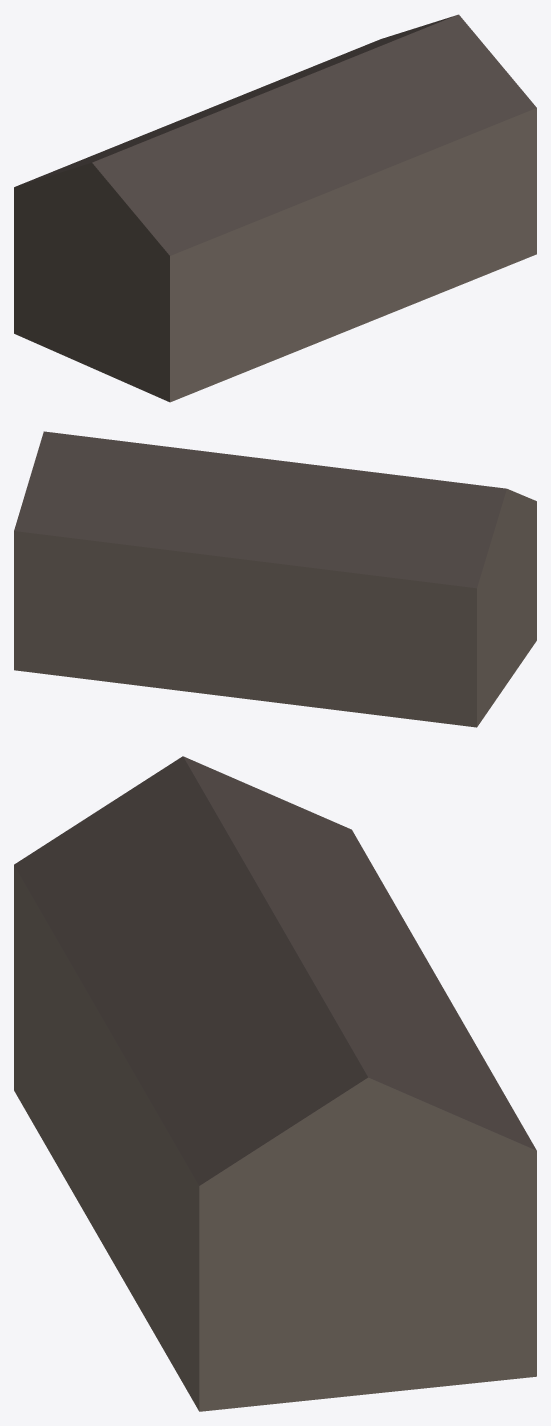
The picture shows the model from 3 angles, top to bottom: view 1: azimuth 30°, elevation 25°; view 2: azimuth 150°, elevation 25°; view 3: azimuth 270°, elevation 25°; orthographic projection. The views are drawn at different scales.
Visible parts, largest first — view 1: HP-w1200743805; view 2: HP-w1200743805; view 3: HP-w1200743805.
Part boxes in pixels (<box>): HP-w1200743805: <box>14,14,536,402</box>; HP-w1200743805: <box>14,431,536,727</box>; HP-w1200743805: <box>14,756,536,1411</box>.
Size of the model in its own units: 30.46 by 12.63 by 18.89.
